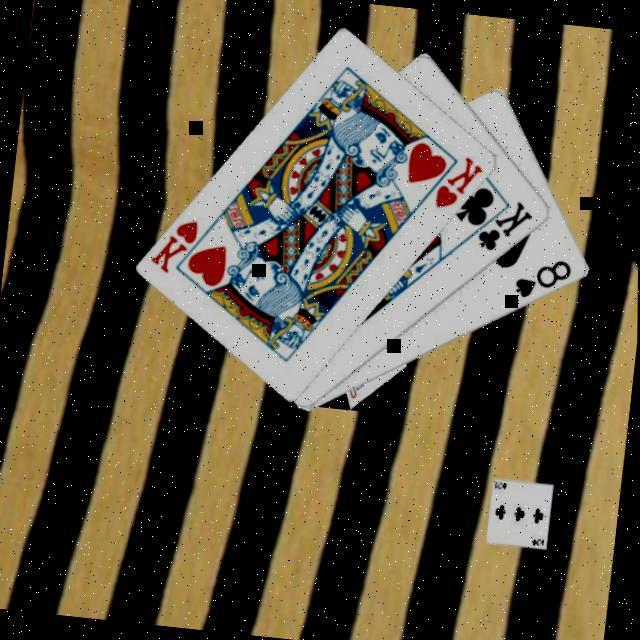8S: (512, 254, 578, 308)
KC: (462, 194, 538, 259)
KH: (148, 213, 203, 280), (432, 152, 488, 216)
